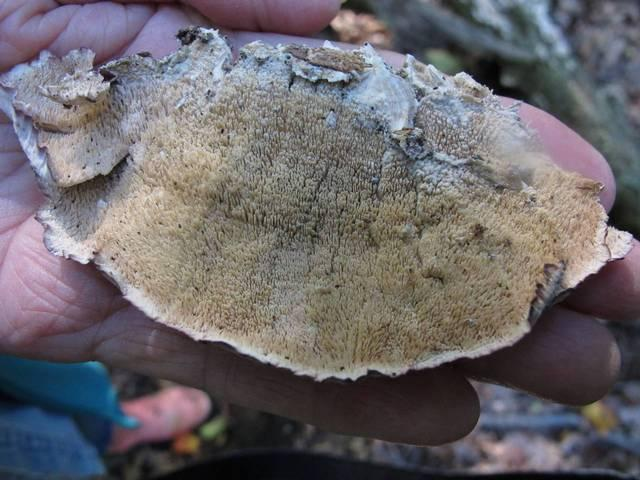Non-edible Mushroom: (0, 25, 634, 385)
